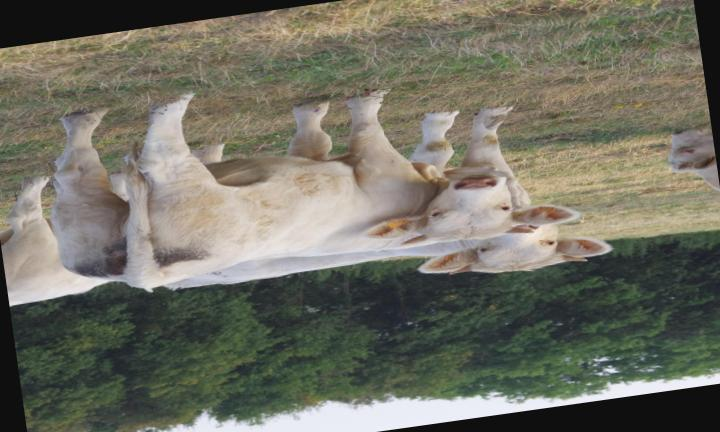Charolais: (52, 90, 578, 290)
